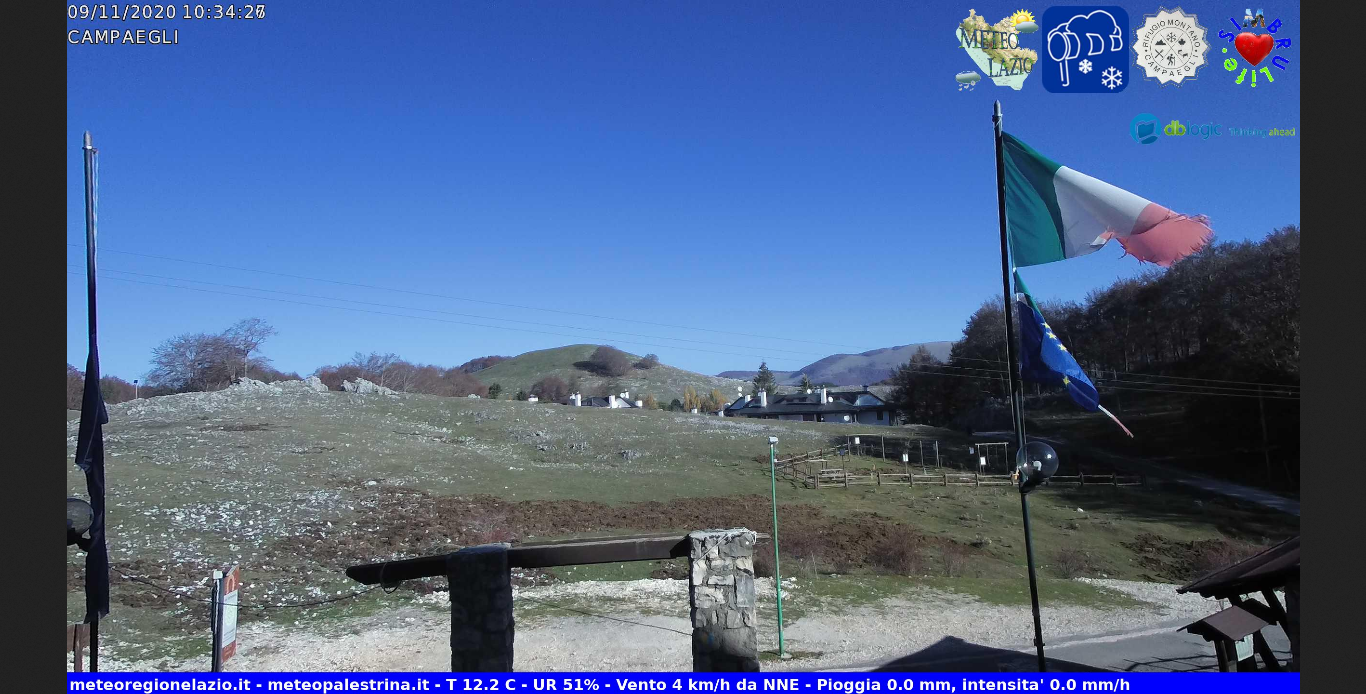maybe: (987, 116, 1240, 289), (1002, 288, 1143, 445)
no: (75, 129, 134, 636)
